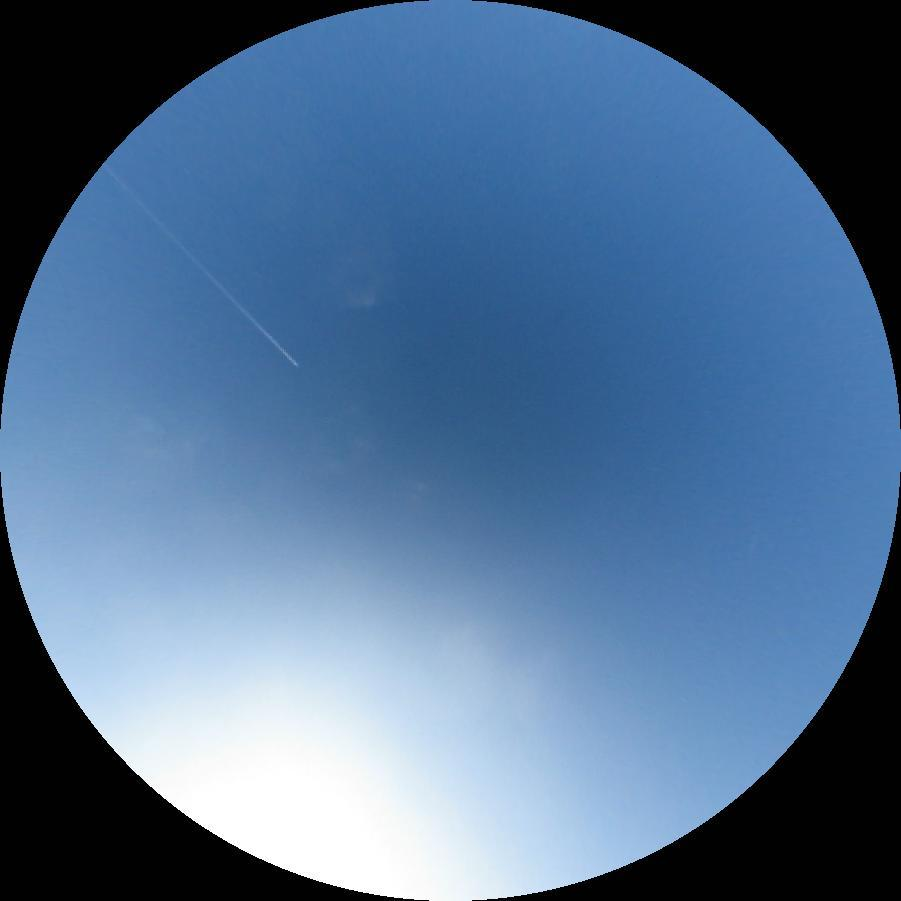contrail young: (101, 162, 301, 370)
